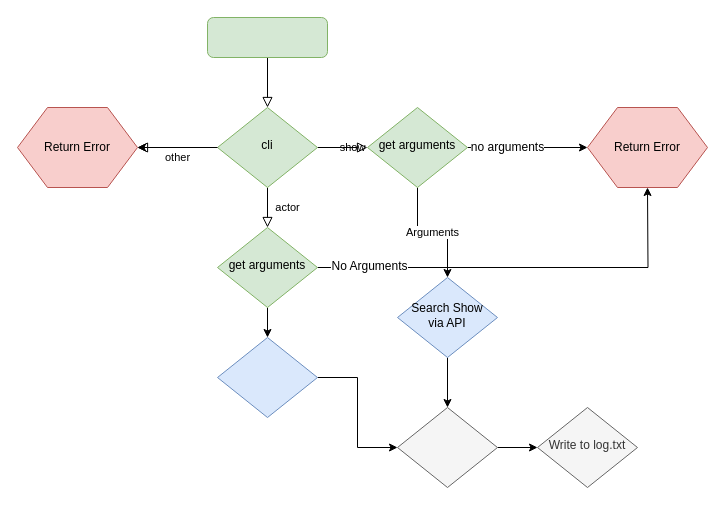
The diagram is 725 pixels wide and 505 high, and some of its shapes have lost their labels. Here are the shapes that lost their labels. From the top down, the centre of each, then its label:
At point (267, 37): "node call".
At point (267, 377): "Search for Actor via API".
At point (447, 447): "Print Info".
